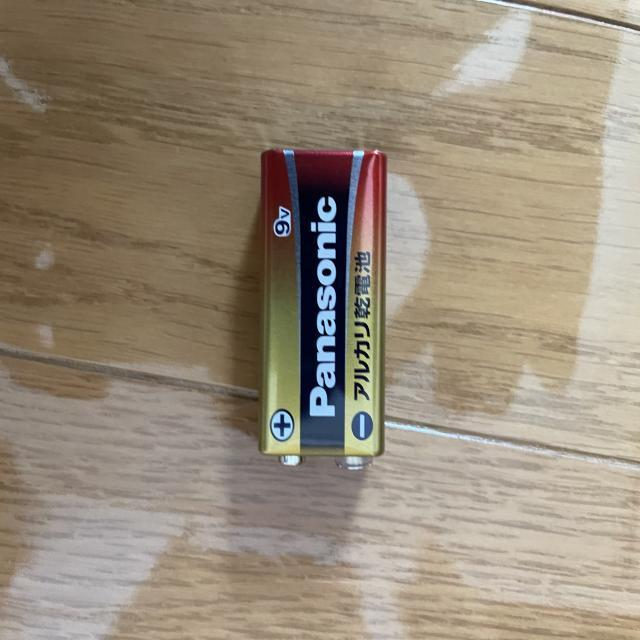9V: (251, 170, 384, 493)
